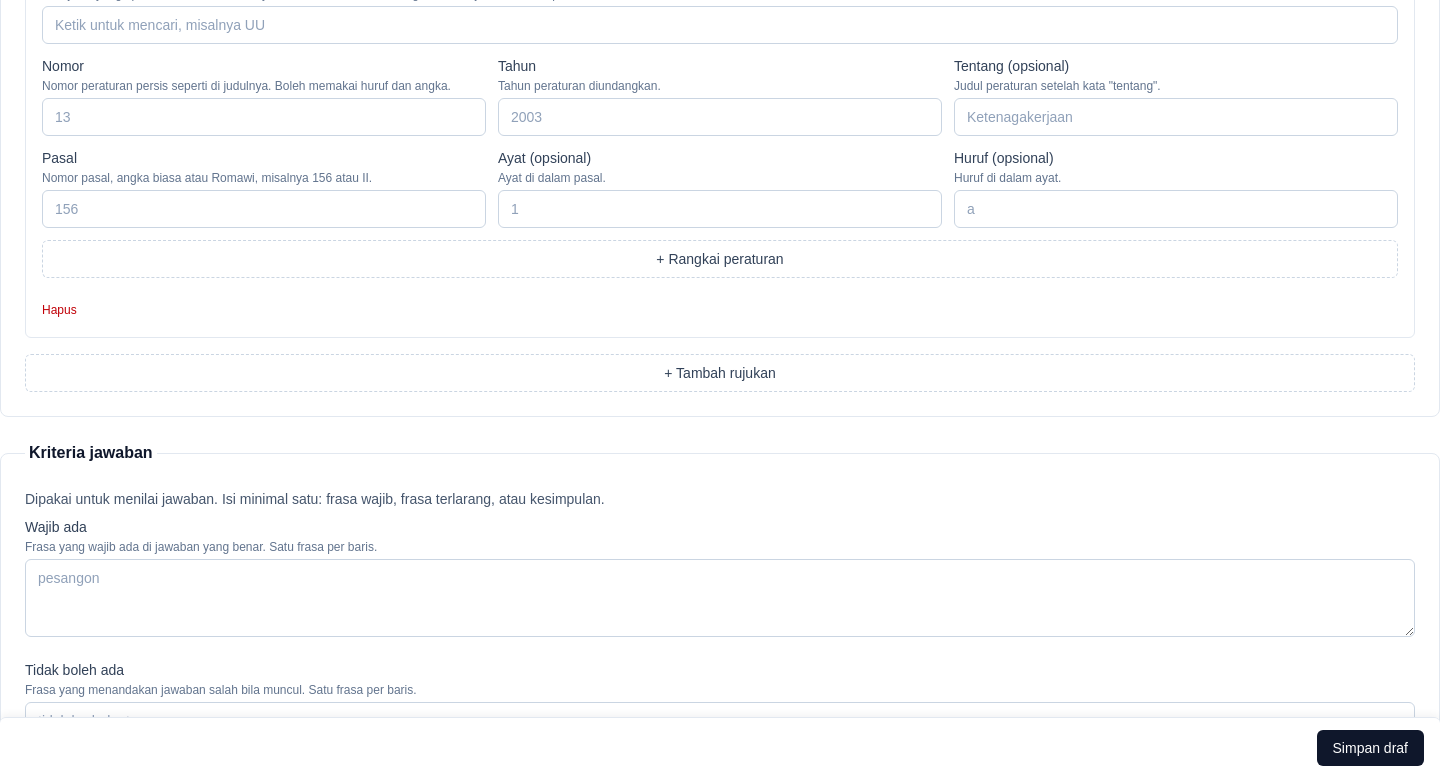
Scenario: CaseEditorForm › adds legal reference rows
The image size is (1440, 778).
(page scrolled)
What coordinates should you click on to do the following:
click the button "+ Tambah rujukan"
I would click on:
 (720, 373)
Its box is left=25, top=354, right=1415, bottom=392.
(page scrolled)
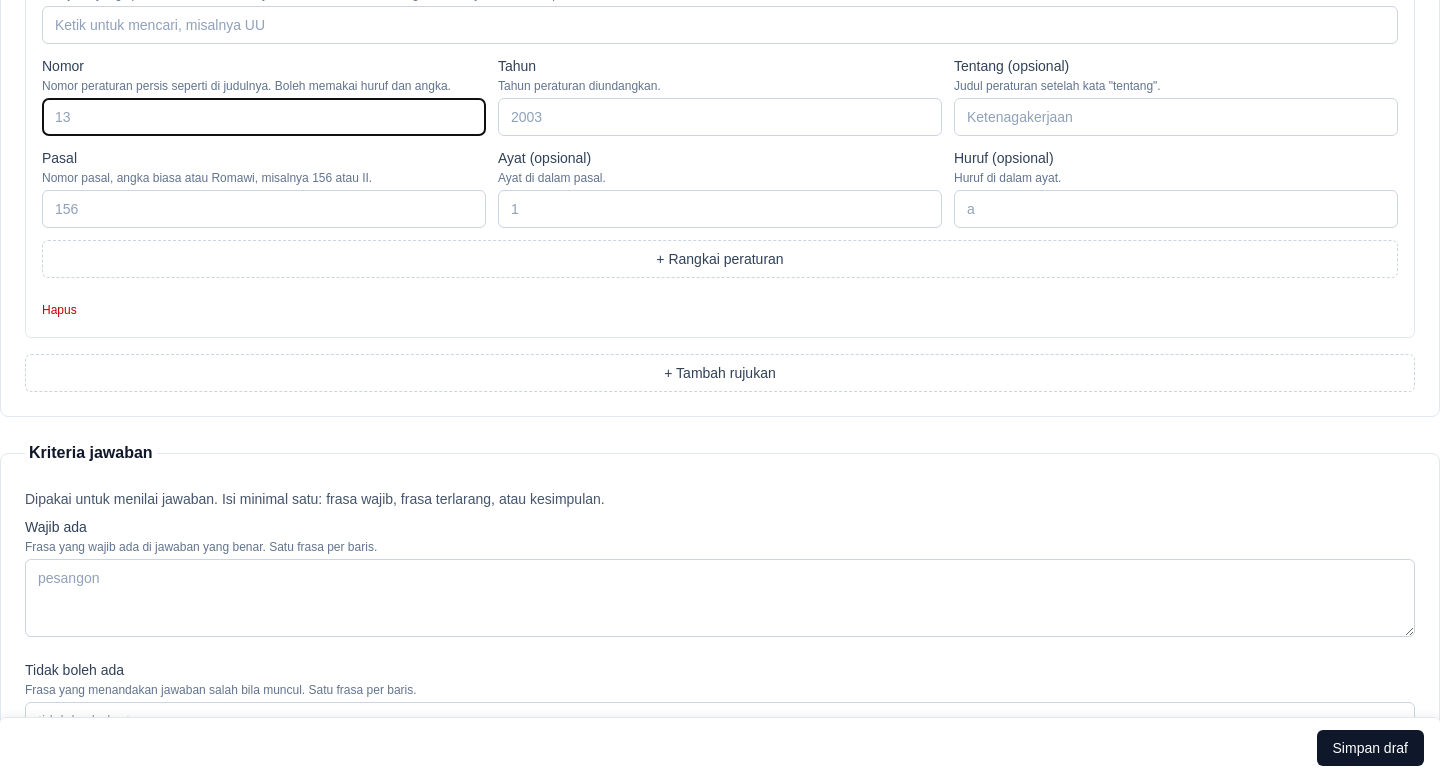
What coordinates should you click on to do the following:
click the button "+ Tambah rujukan"
I would click on:
 (720, 373)
Its box is left=25, top=354, right=1415, bottom=392.
(page scrolled)
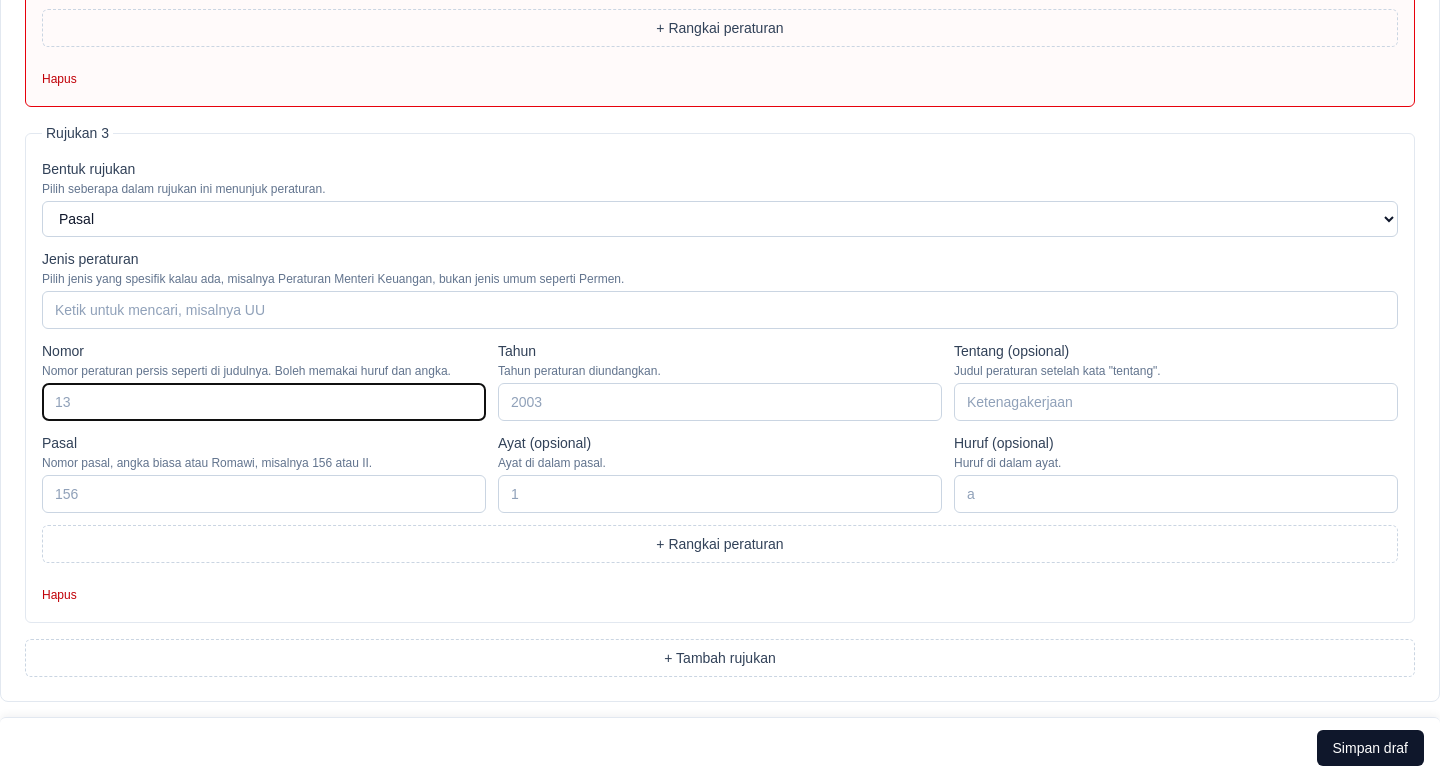
Check: the element "Rujukan 3" is shown
